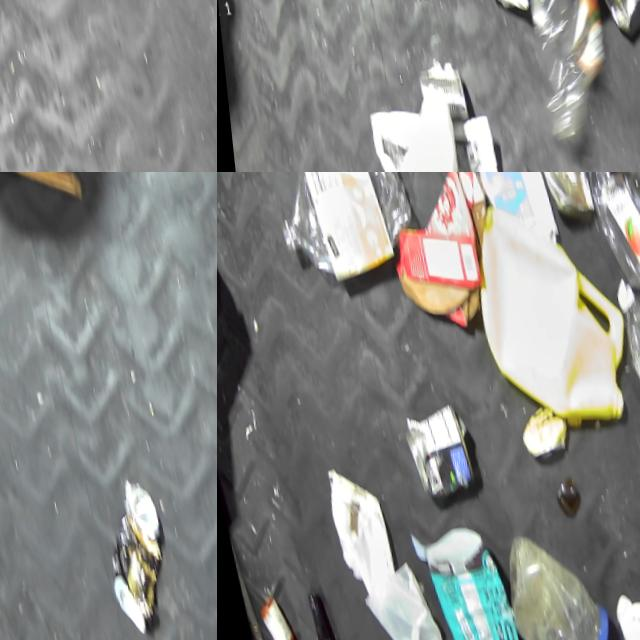can: (79, 472, 172, 636), (390, 396, 473, 504), (526, 172, 593, 217), (596, 0, 640, 36)
milk_jug: (451, 188, 640, 431), (463, 172, 557, 247), (597, 577, 640, 640)
plastic_bottle: (482, 520, 606, 640), (605, 264, 640, 473)
